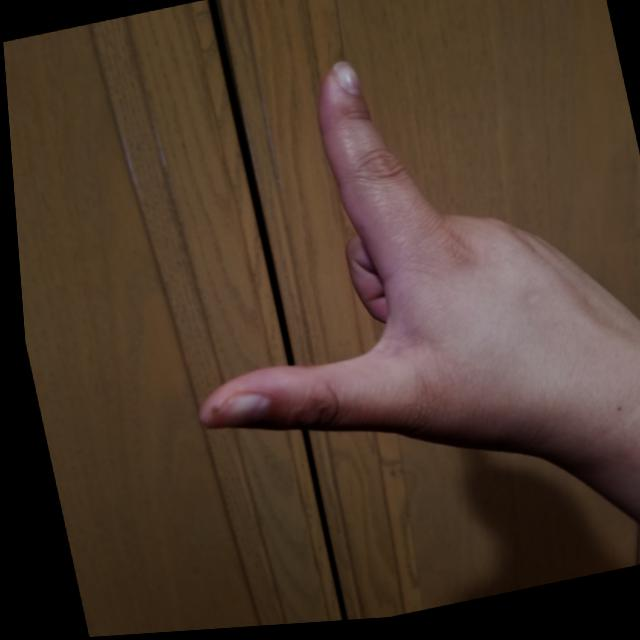L: (113, 4, 639, 542)
